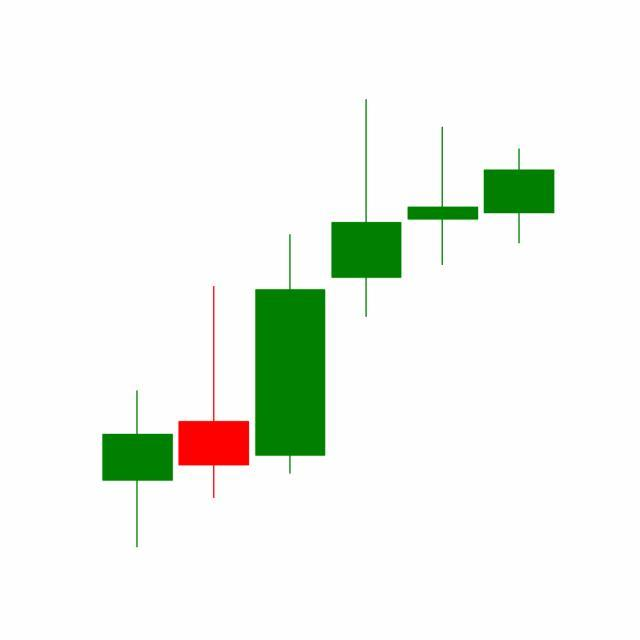Advance Block: (252, 100, 482, 480)
